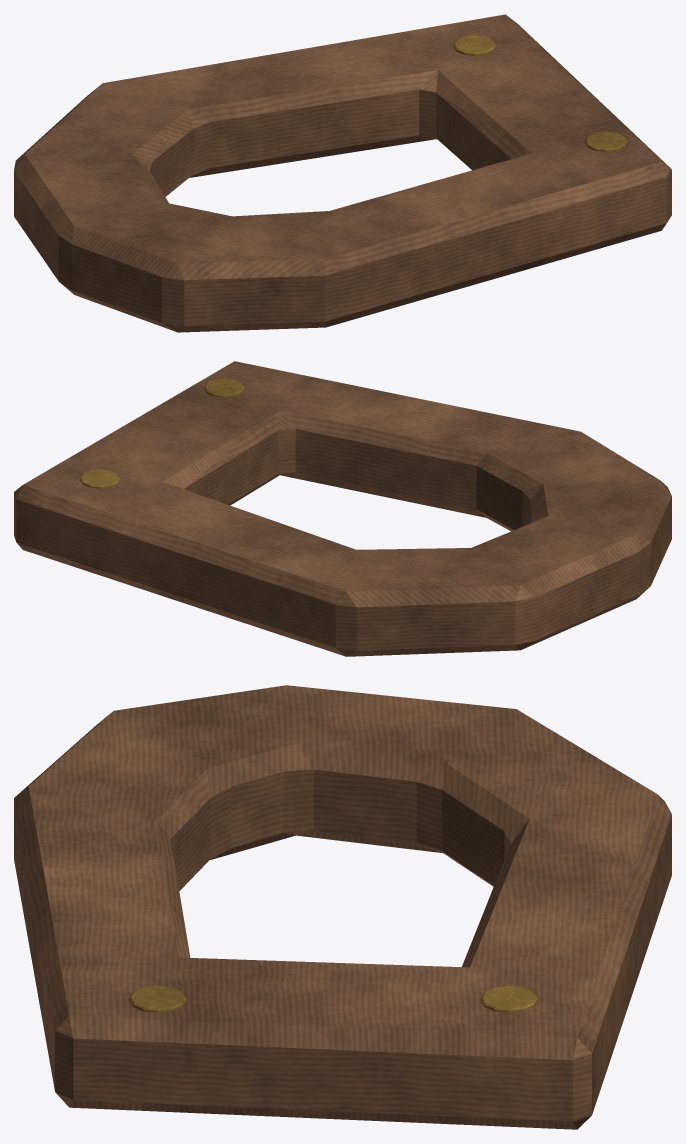
The model's file is SawHandle.fbx.
3 renders of one model, top to bottom at view 1: azimuth 30°, elevation 25°; view 2: azimuth 150°, elevation 25°; view 3: azimuth 270°, elevation 25°, orthographic. The views are drawn at different scales.
Parts seen in each view (by area): view 1: SawHandle_00_Solid walnut D grip, SawHandle_02_Brass handle pin, SawHandle_01_Brass handle pin; view 2: SawHandle_00_Solid walnut D grip, SawHandle_01_Brass handle pin, SawHandle_02_Brass handle pin; view 3: SawHandle_00_Solid walnut D grip, SawHandle_01_Brass handle pin, SawHandle_02_Brass handle pin.
Part boxes in pixels (x1,y1,x2,y2): SawHandle_00_Solid walnut D grip: [14, 14, 671, 332]; SawHandle_02_Brass handle pin: [453, 35, 496, 55]; SawHandle_01_Brass handle pin: [584, 131, 627, 151]; SawHandle_00_Solid walnut D grip: [14, 361, 671, 656]; SawHandle_01_Brass handle pin: [204, 378, 244, 397]; SawHandle_02_Brass handle pin: [80, 469, 120, 488]; SawHandle_00_Solid walnut D grip: [14, 685, 671, 1129]; SawHandle_01_Brass handle pin: [129, 985, 186, 1012]; SawHandle_02_Brass handle pin: [480, 985, 537, 1012].
Size of the model in its own units: 20.46 by 2.5 by 15.54.
